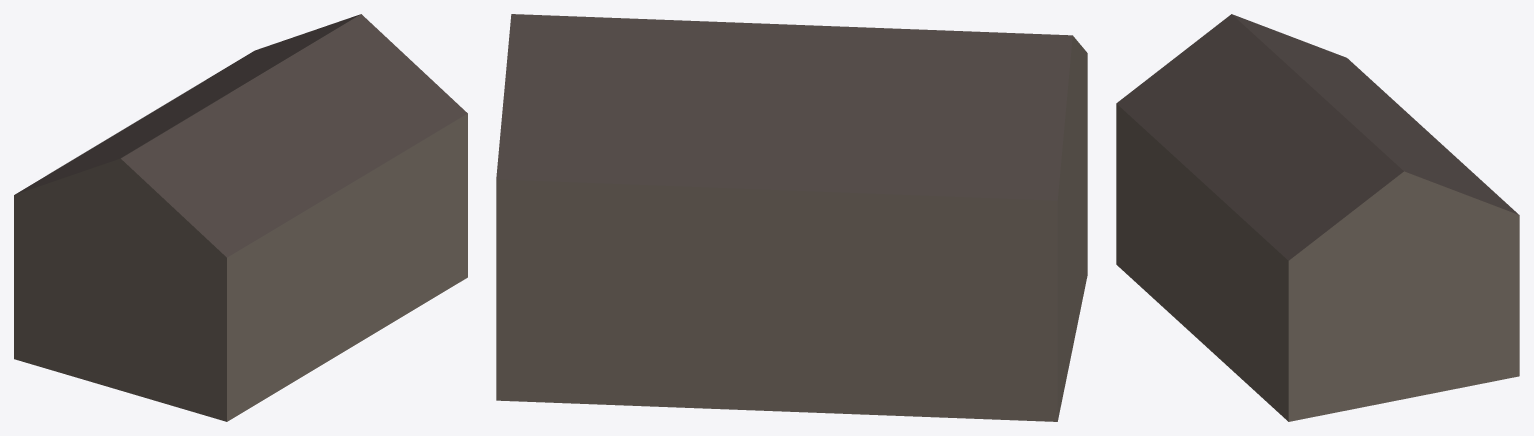
3 views of the same model, side by side, from view 1: azimuth 30°, elevation 25°; view 2: azimuth 150°, elevation 25°; view 3: azimuth 270°, elevation 25° (orthographic). The views are drawn at different scales.
Parts seen in each view (by area): view 1: HP-w859488727; view 2: HP-w859488727; view 3: HP-w859488727.
Boxes of the visible parts, bbox=[...] form: HP-w859488727: bbox=[14, 14, 467, 421]; HP-w859488727: bbox=[496, 14, 1087, 421]; HP-w859488727: bbox=[1116, 14, 1519, 421].
Size of the model in its own units: 24.33 by 12.73 by 20.42.
